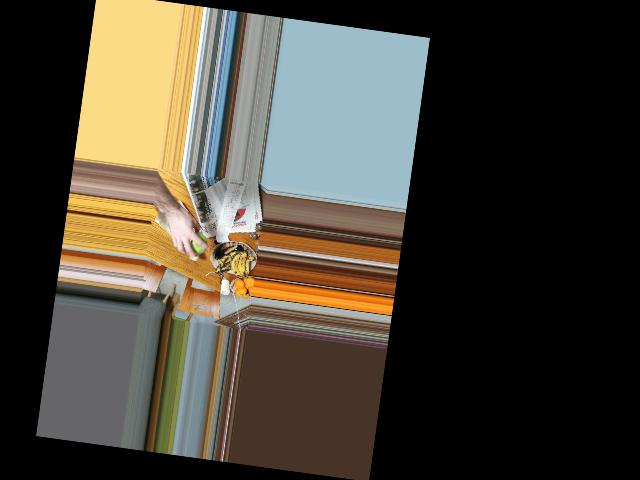apple: (182, 229, 208, 256)
